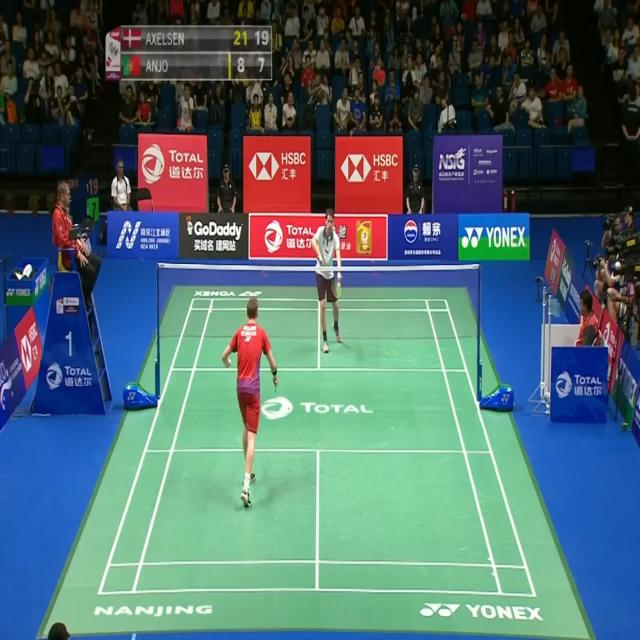Player1: (217, 294, 282, 513)
Player2: (308, 205, 346, 359)
